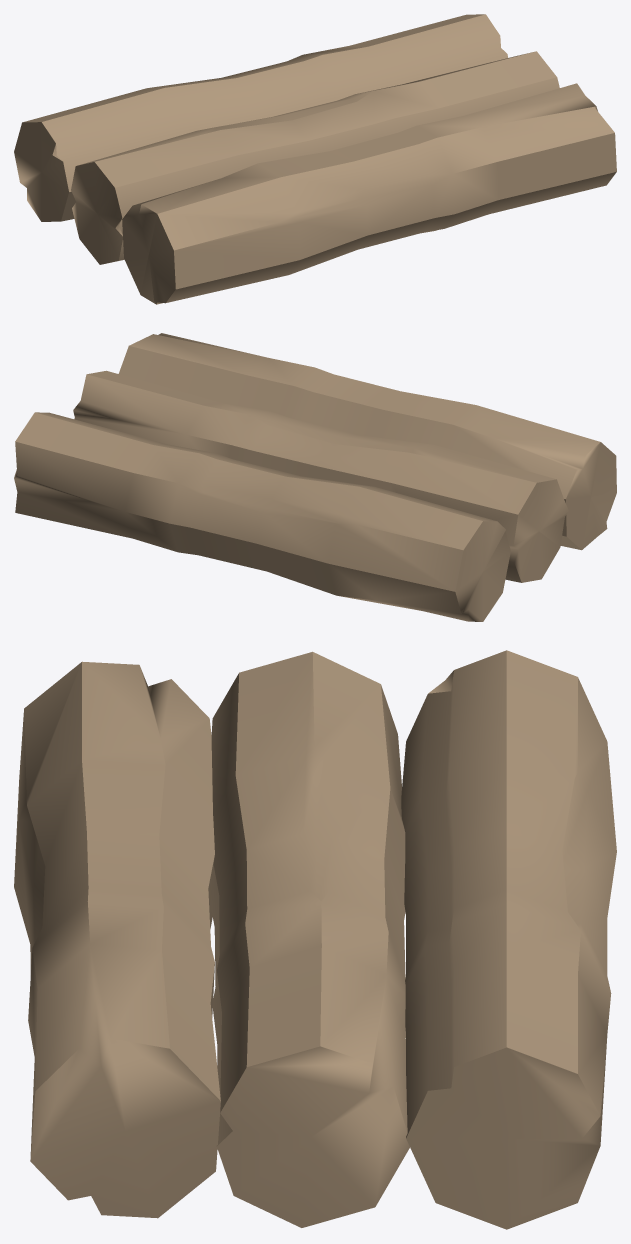
Rendered from woodlog.fbx.
3 views of the same model, one above another, from view 1: azimuth 30°, elevation 25°; view 2: azimuth 150°, elevation 25°; view 3: azimuth 270°, elevation 25° (orthographic). The views are drawn at different scales.
Visible parts, largest first — view 1: woodlog; view 2: woodlog; view 3: woodlog.
Part boxes in pixels (x1,y1,x2,y2): woodlog: (14,14,616,304); woodlog: (14,333,616,621); woodlog: (14,650,616,1229).
Size of the model in its own units: 1461 by 337 by 926.
